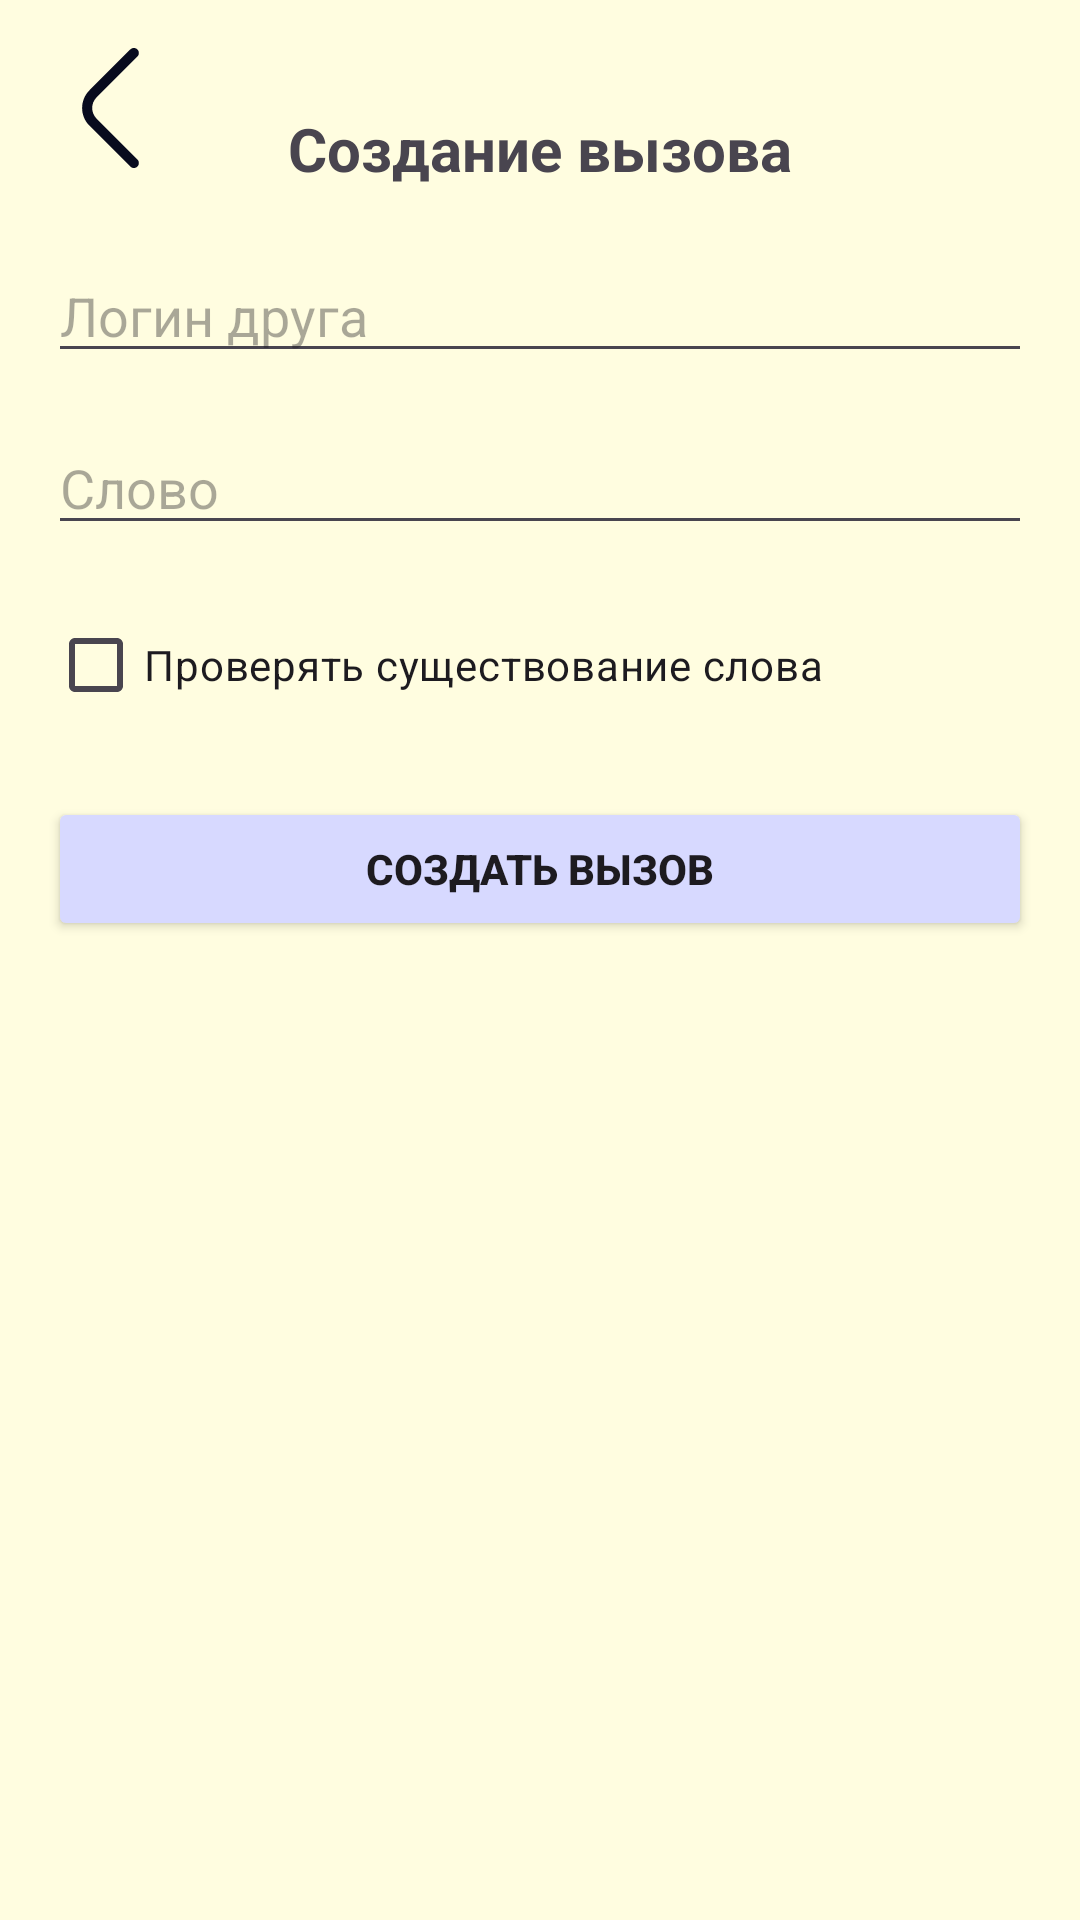

Icons on this 1080w x 1920h Android screen, each with its box as {"x1": x1, "y1": y1, "x2": x2, "y2": y2}:
Выход: {"x1": 82, "y1": 48, "x2": 139, "y2": 168}
